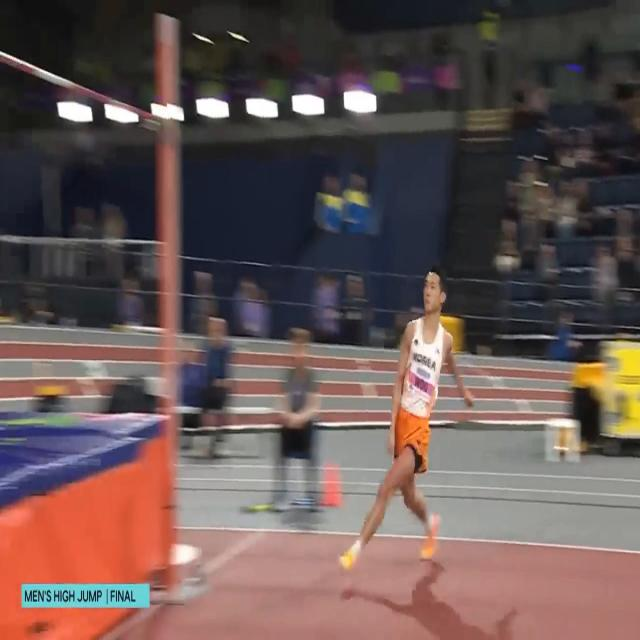run: (338, 259, 476, 577)
